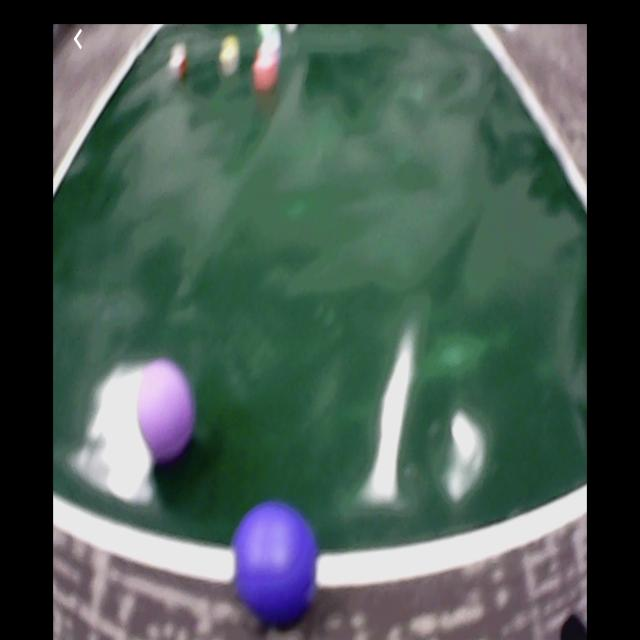ball: (235, 503, 320, 627), (137, 362, 194, 460)
